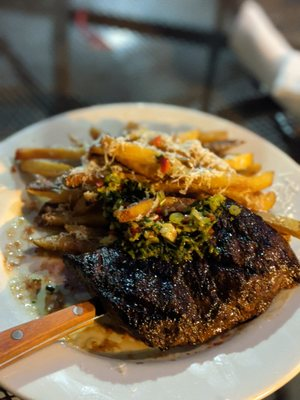curry: (1, 92, 300, 398)
